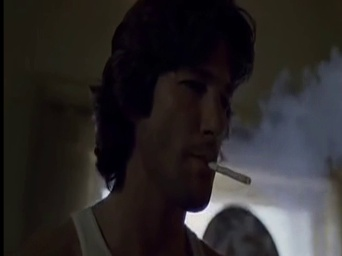smoke: (204, 158, 252, 185)
